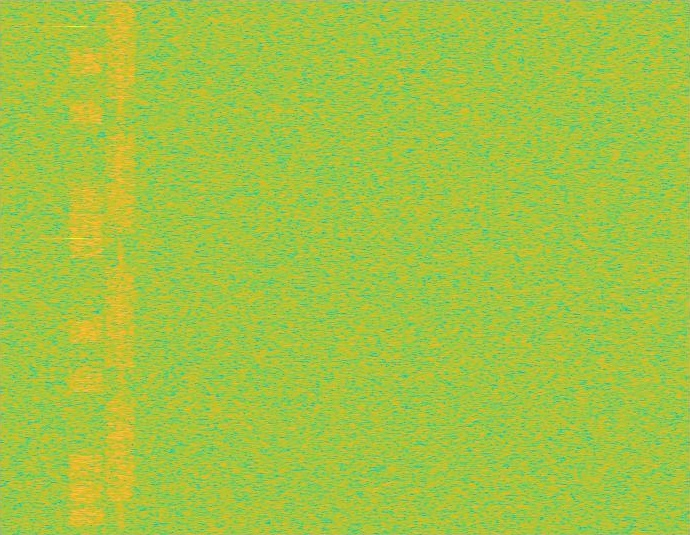5G: (104, 0, 138, 534)
DSSS: (117, 0, 125, 534)
LTE: (69, 0, 104, 534)
Radar: (69, 0, 83, 534)
